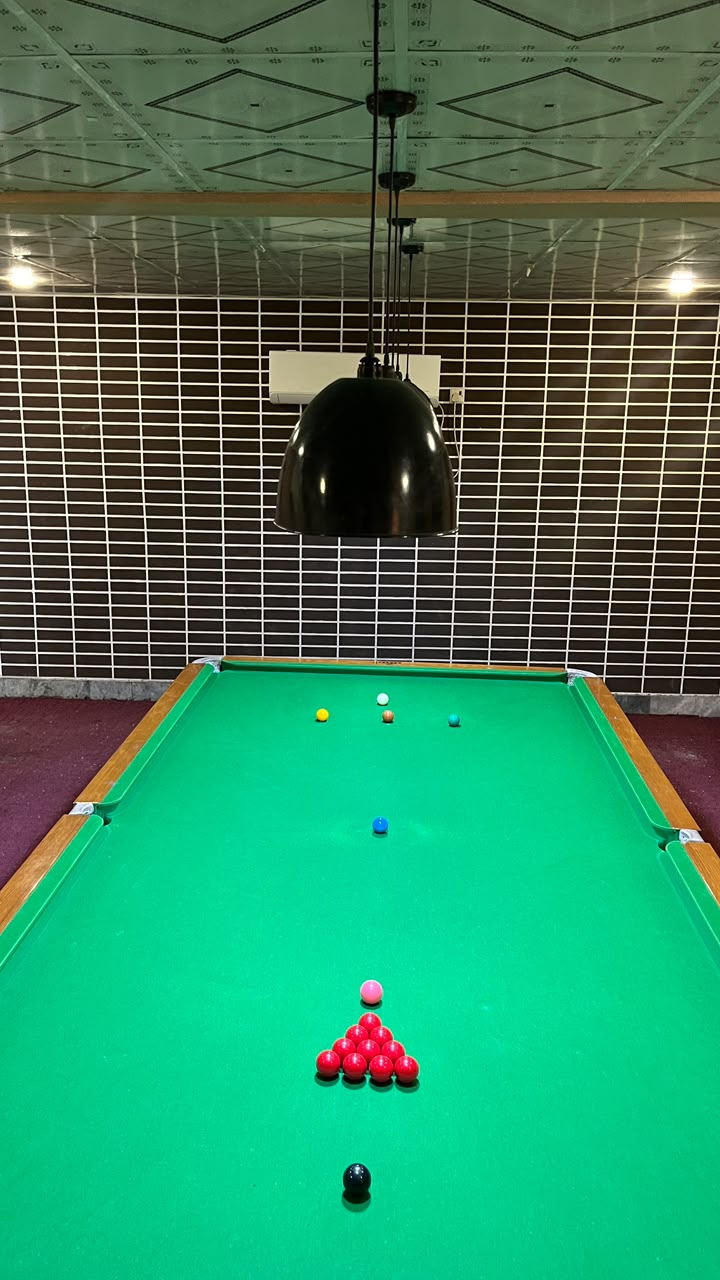Snooker: (314, 1011, 422, 1097)
